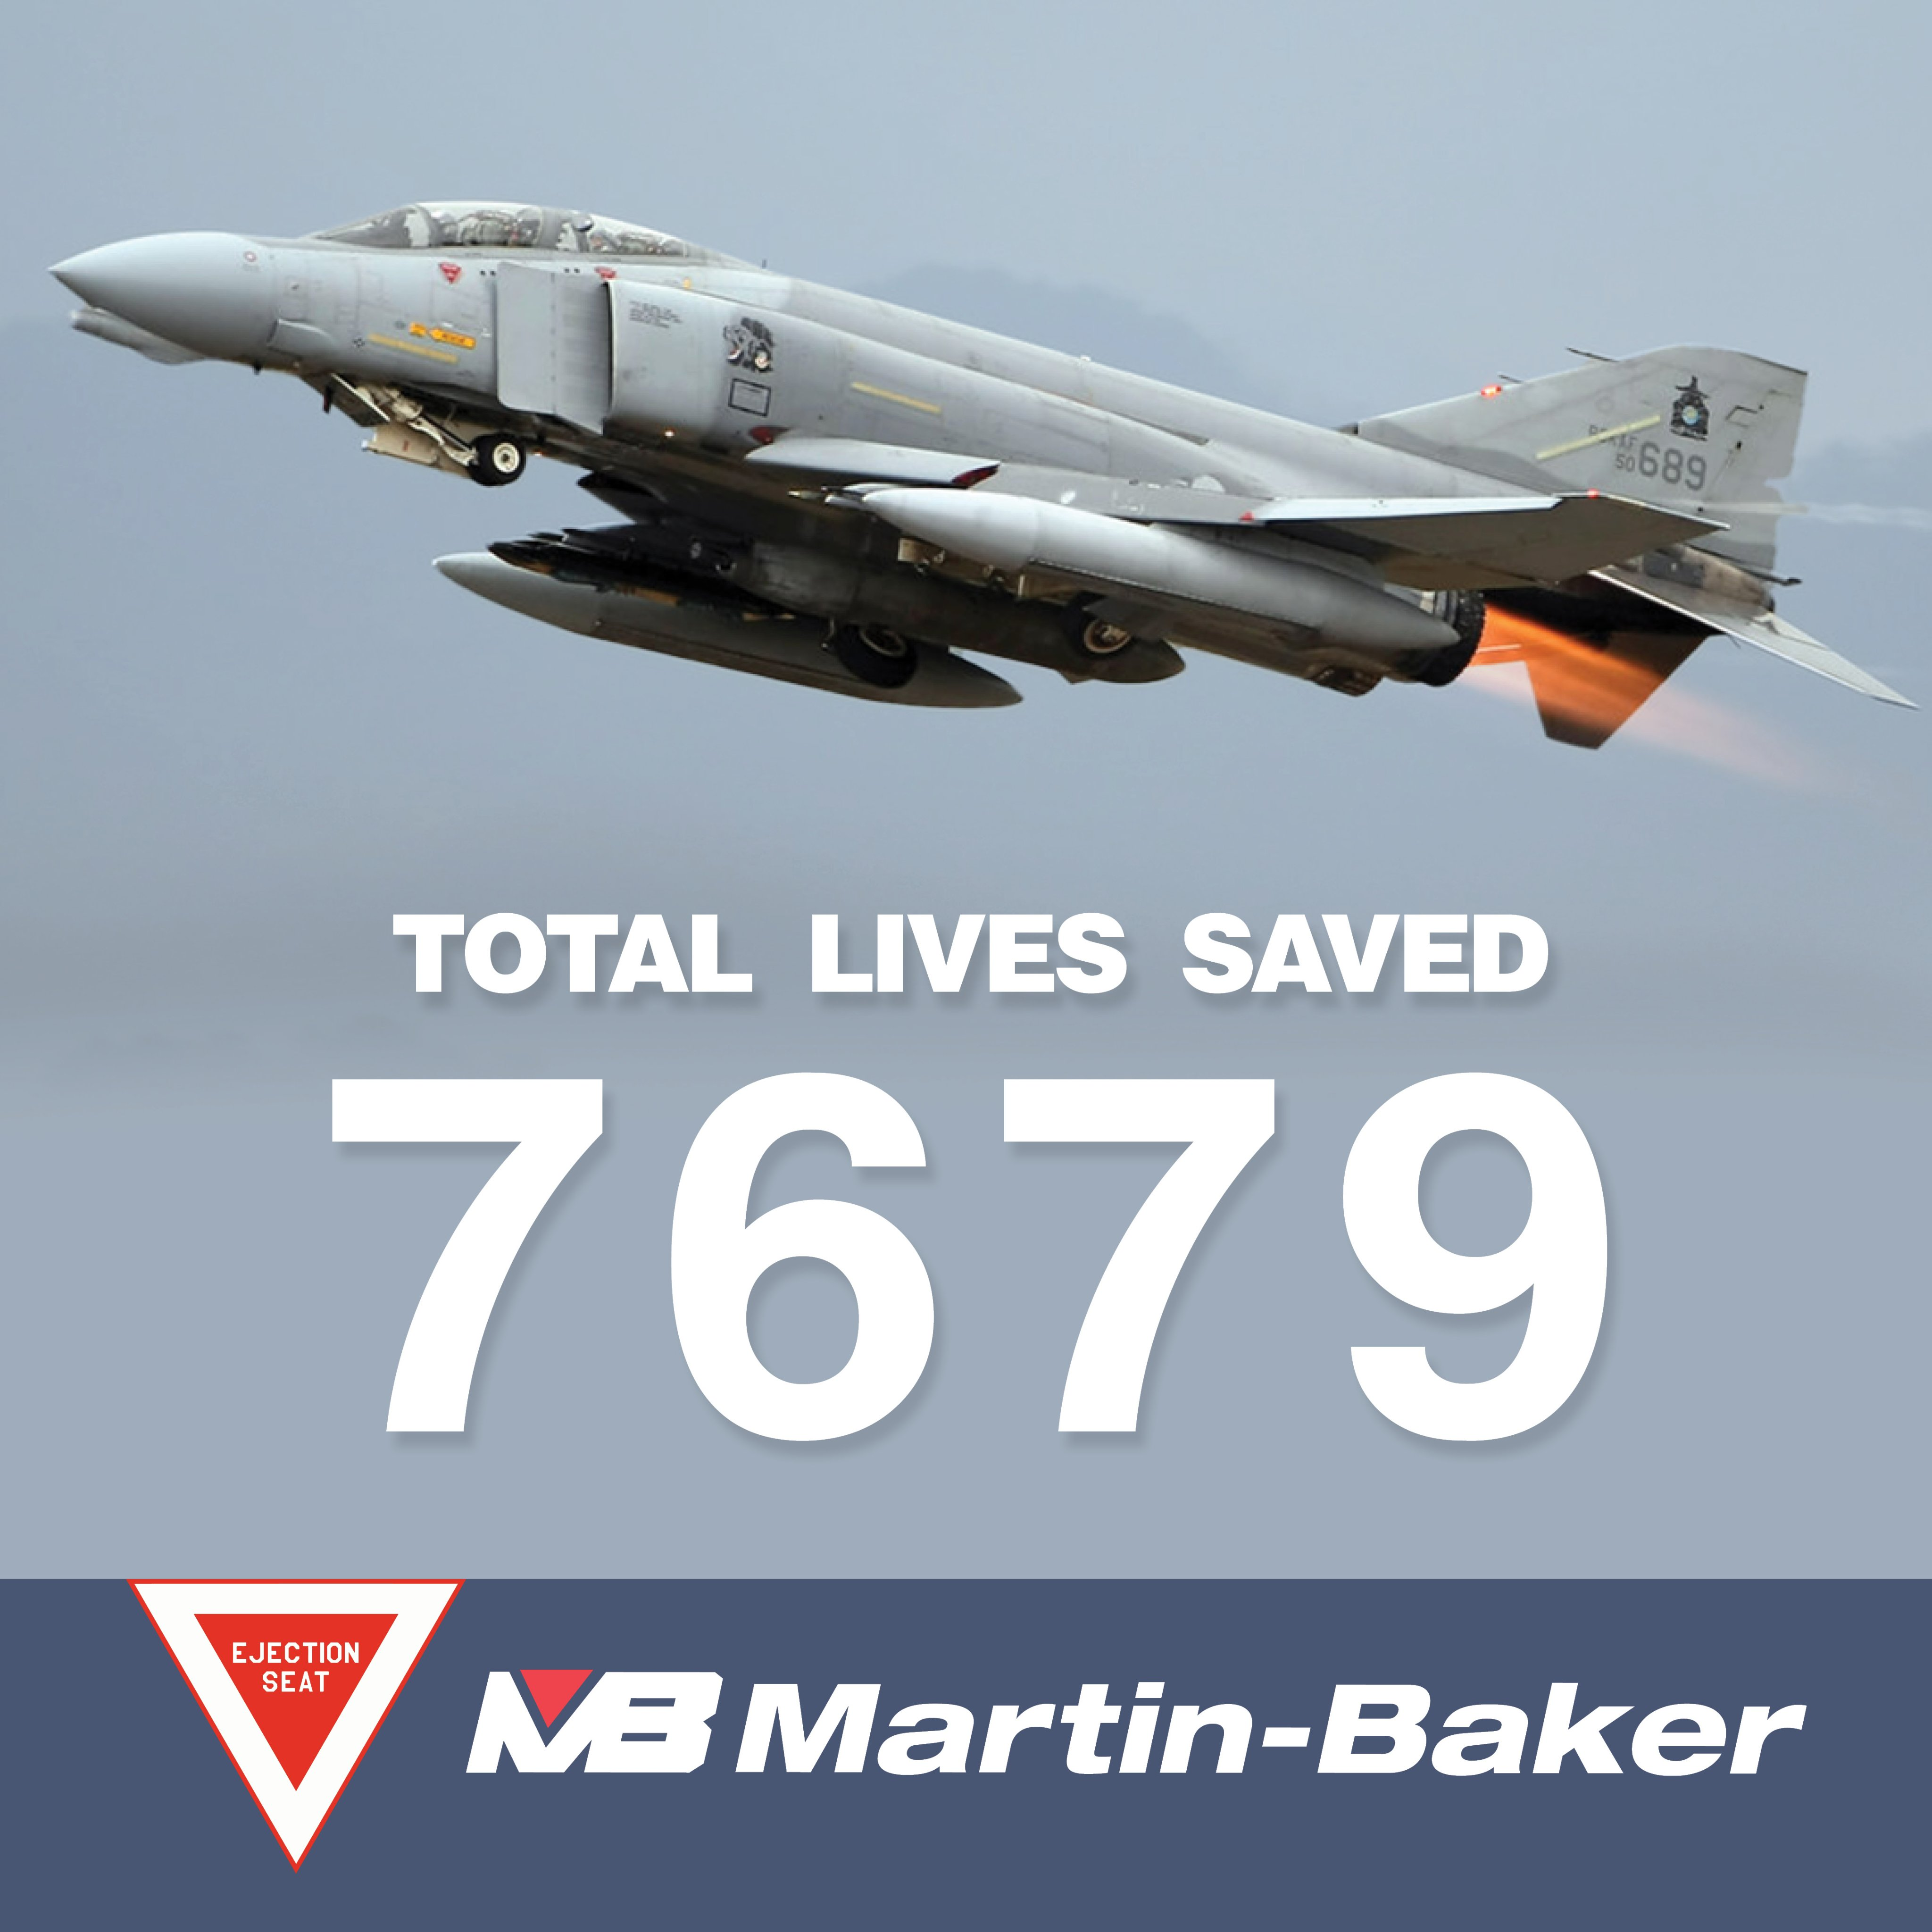F4: (46, 200, 1923, 750)
